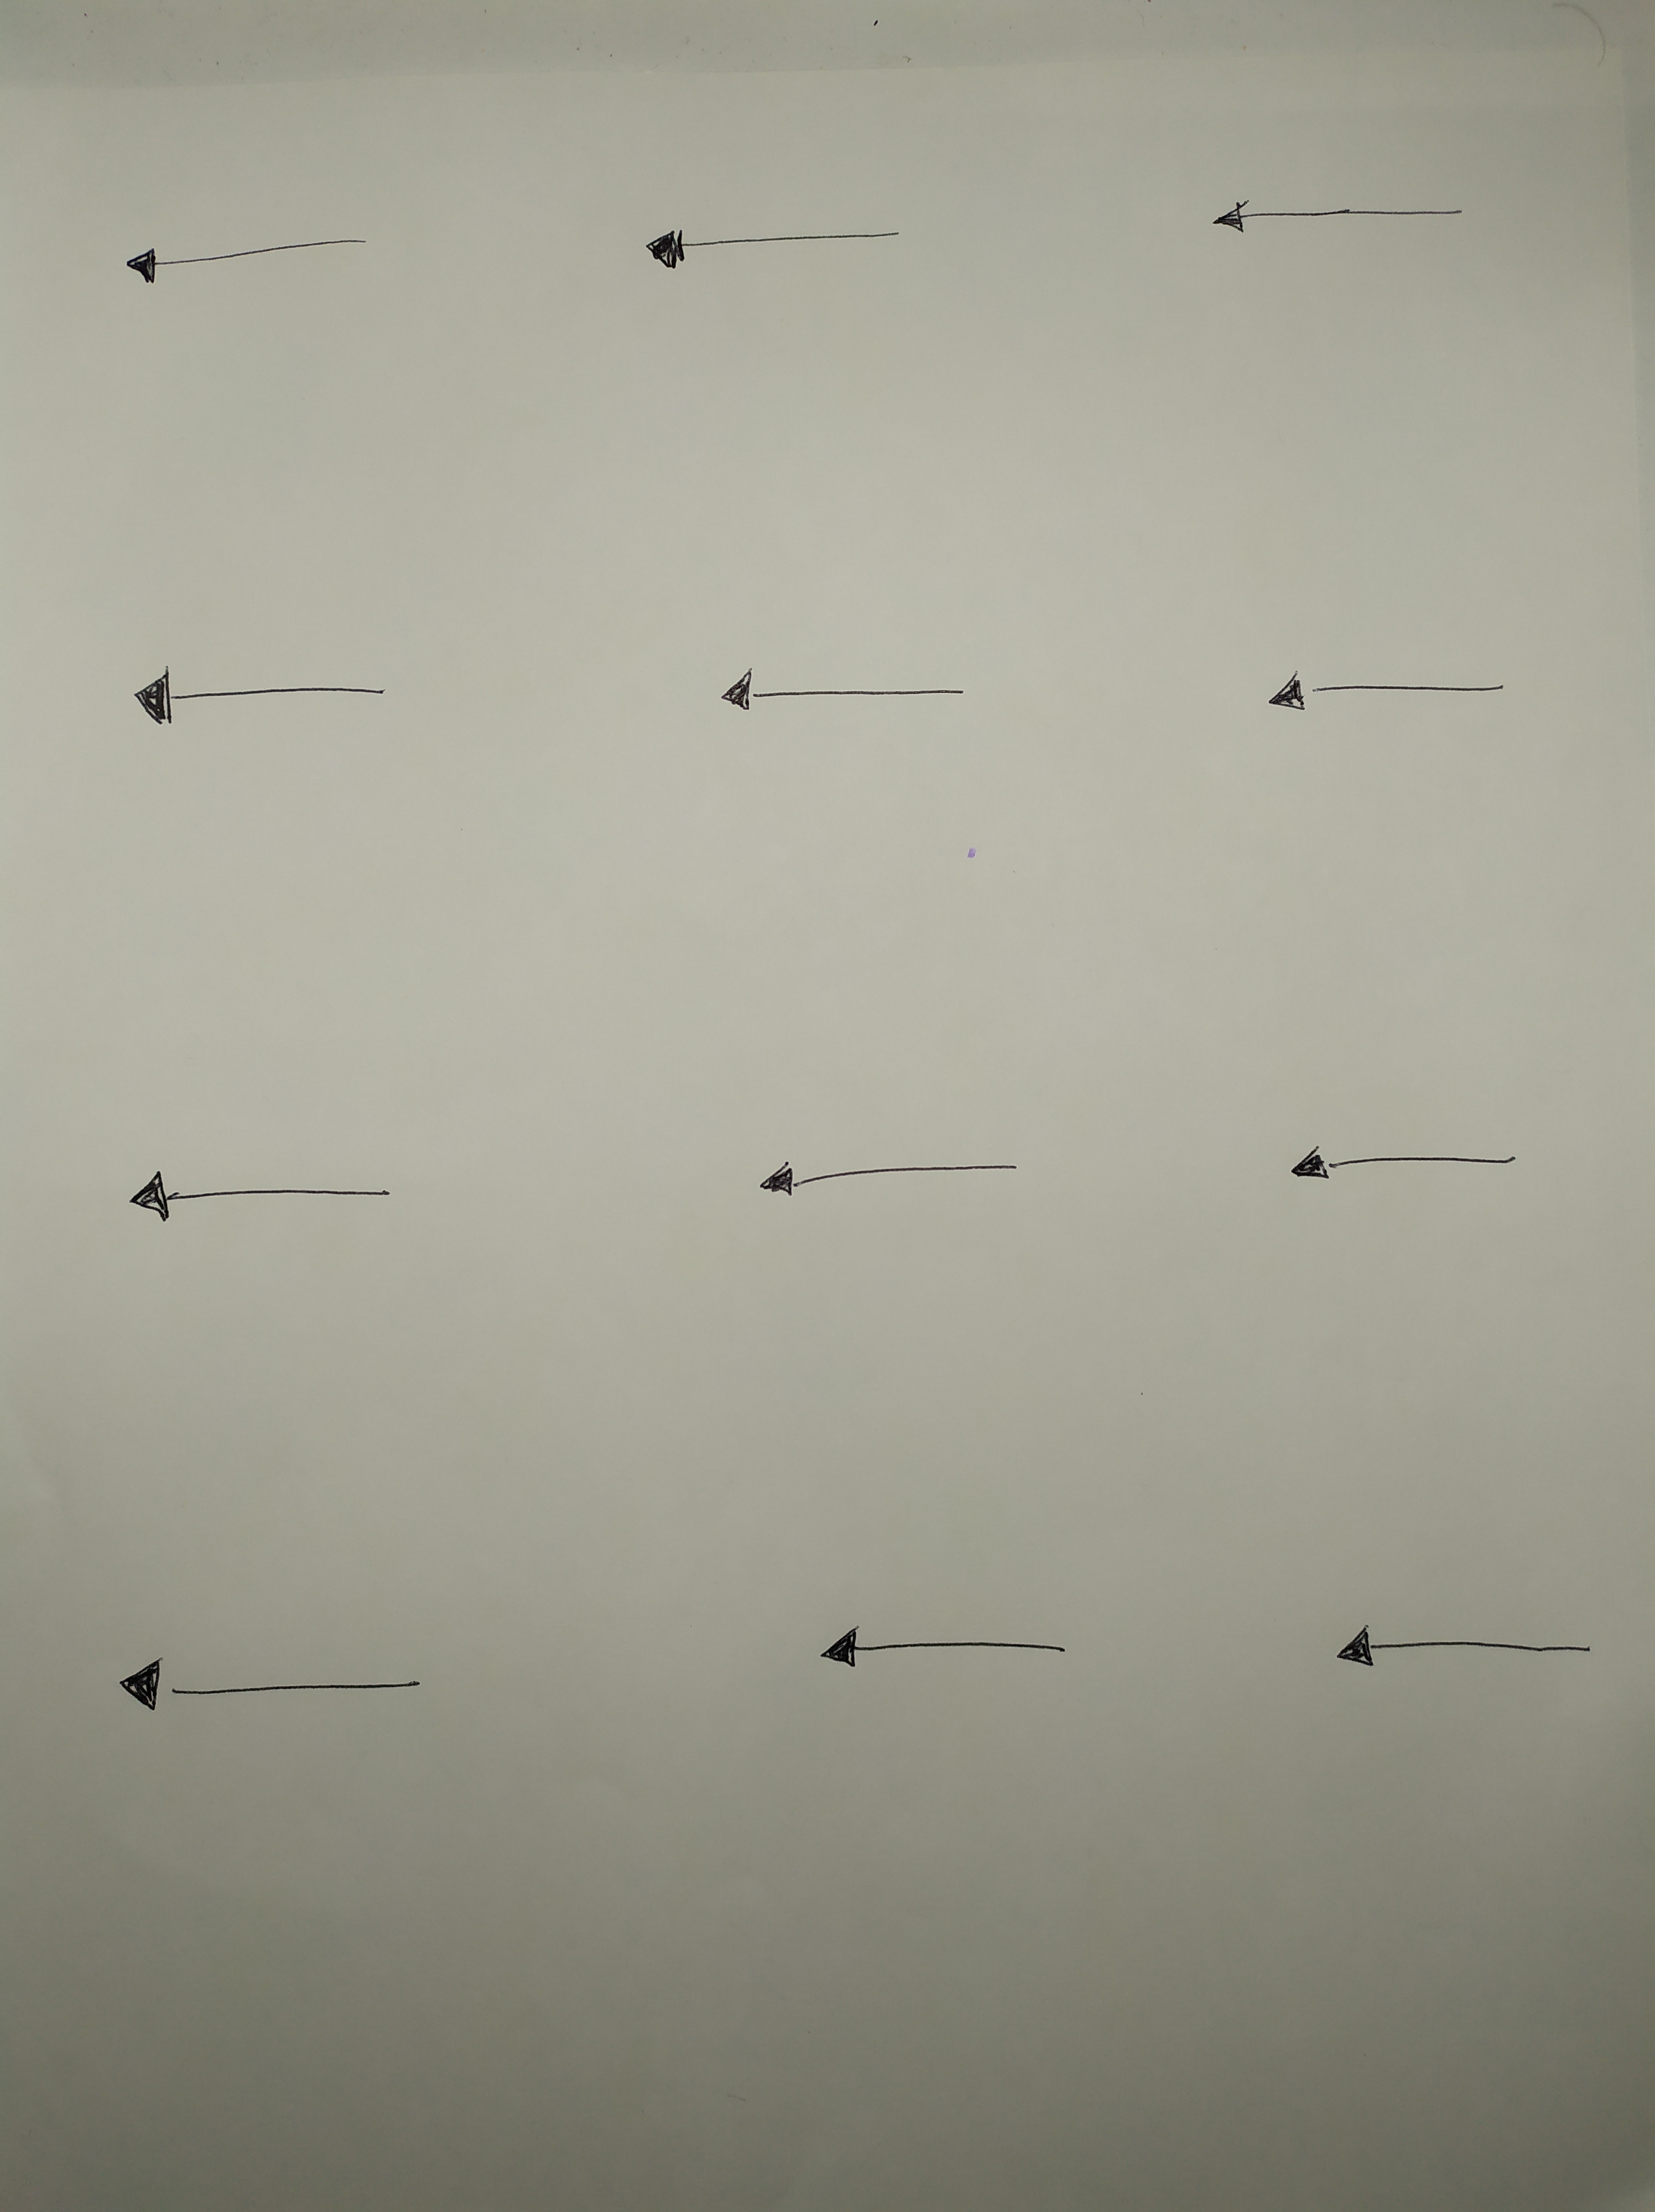arrow_line_left: (78, 193, 410, 323), (92, 1621, 454, 1734), (1234, 645, 1558, 756), (1229, 1116, 1563, 1218), (1182, 172, 1509, 276), (699, 1136, 1055, 1230), (99, 650, 440, 744), (1309, 1599, 1620, 1692), (596, 205, 939, 287), (101, 1156, 421, 1241), (791, 1606, 1090, 1691), (701, 650, 982, 737)
